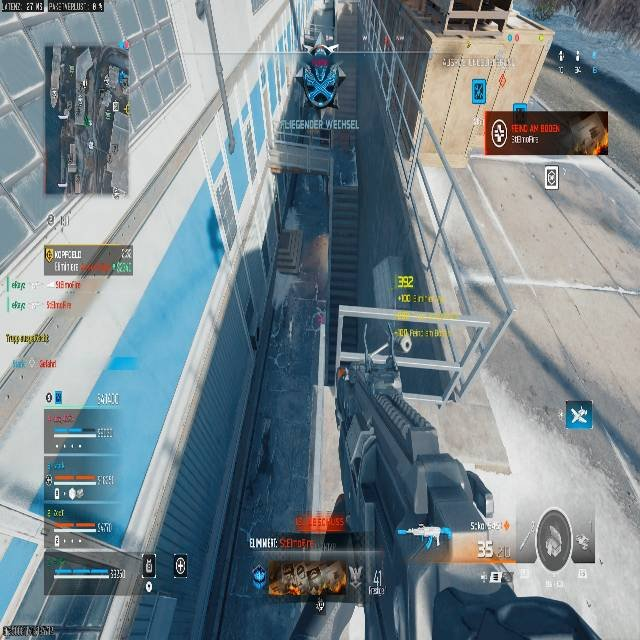player: (294, 49, 346, 117)
